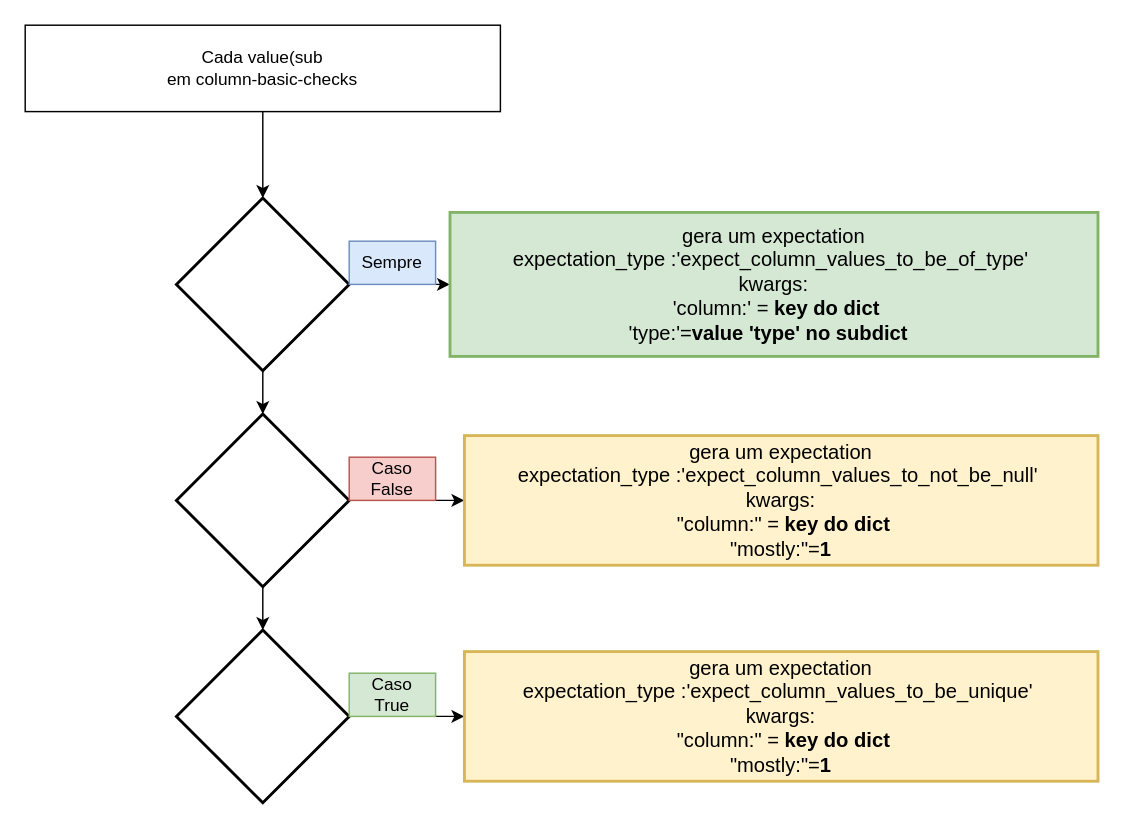
This 1125x829 diagram has some shape labels left out. Here are the shapes that lost their labels. From the top down, the centre of each, then its label:
point 262,284: 'type:'
point 262,500: 'can-be-null'
point 262,716: 'has-to-be-unique'
